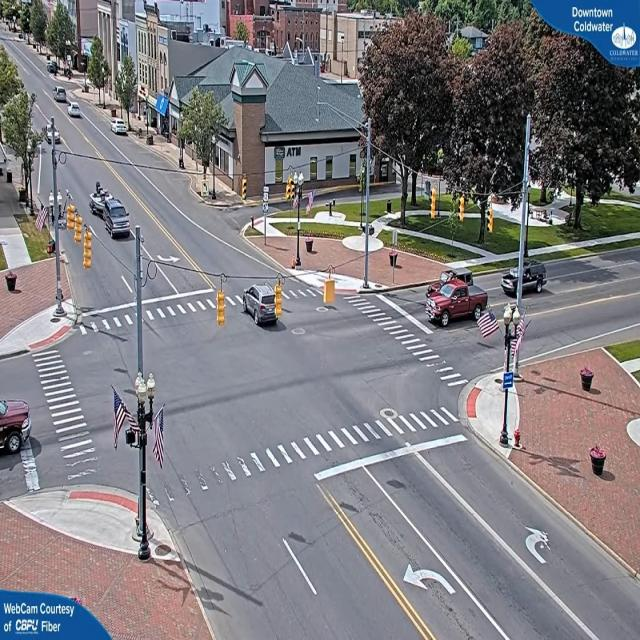car: (424, 275, 489, 327), (238, 279, 280, 326), (500, 262, 548, 296), (104, 200, 133, 238), (112, 121, 131, 138), (68, 102, 82, 118), (54, 88, 68, 104)
truck: (0, 395, 31, 460)
